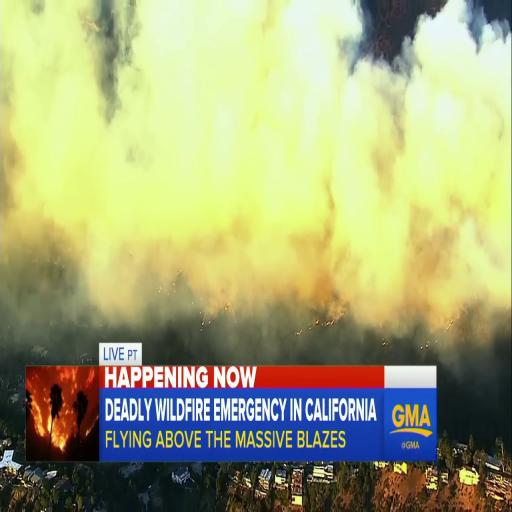smoke: (0, 2, 512, 340)
